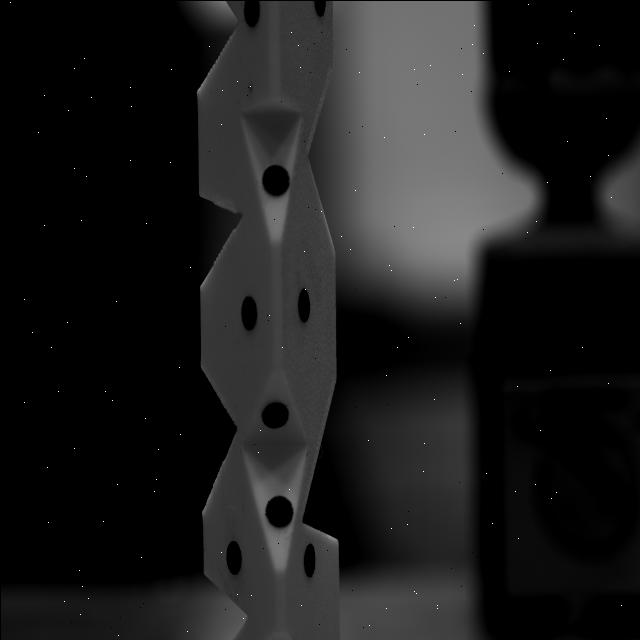circle point: (264, 493, 292, 528), (261, 164, 289, 195), (261, 401, 287, 428), (240, 294, 256, 328), (226, 540, 242, 574), (296, 287, 310, 322), (303, 542, 316, 576)
